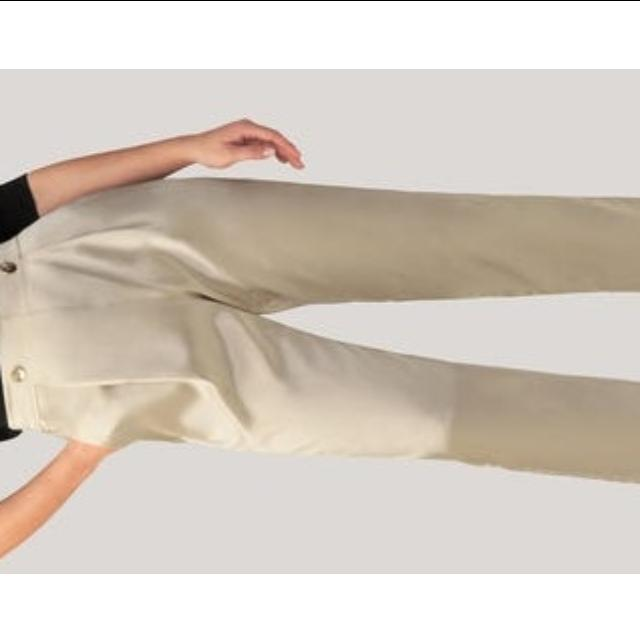silk: (0, 180, 640, 504)
